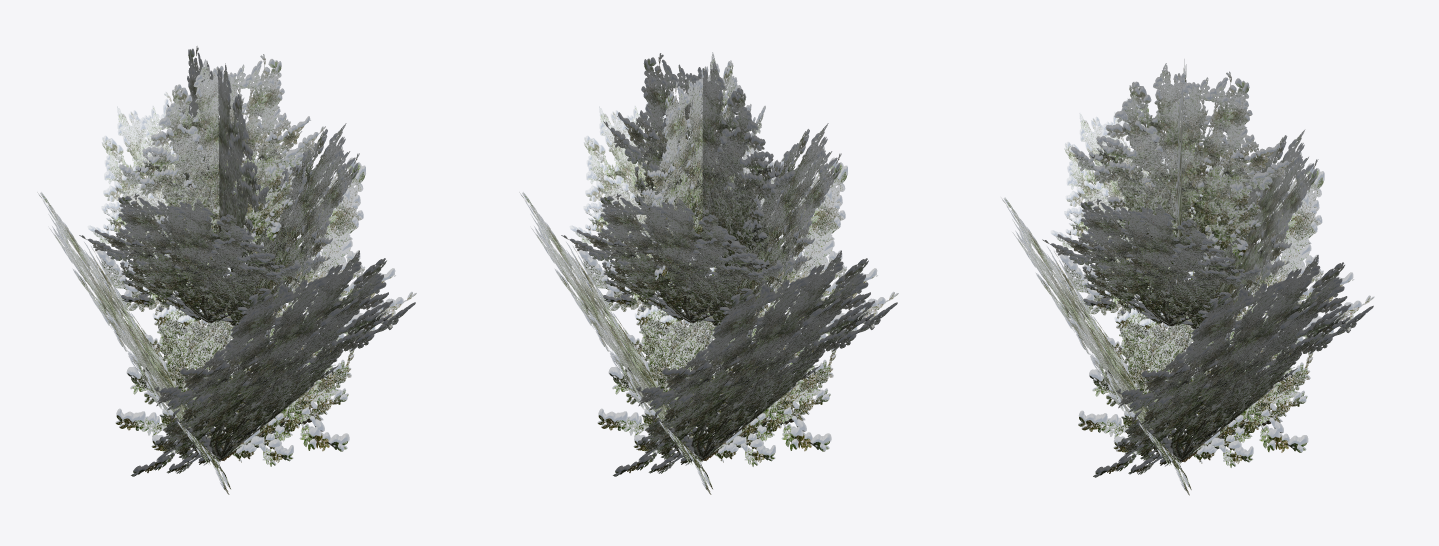
The model's file is Bush_2.fbx.
The picture shows the model from 3 angles, left to right: view 1: azimuth 30°, elevation 25°; view 2: azimuth 150°, elevation 25°; view 3: azimuth 270°, elevation 25°; orthographic projection.
Visible parts, largest first — view 1: Bush2; view 2: Bush2; view 3: Bush2.
Part boxes in pixels (left/top/right/bottom): Bush2: left=37, top=46, right=416, bottom=494; Bush2: left=519, top=52, right=898, bottom=494; Bush2: left=1001, top=59, right=1374, bottom=495.
Size of the model in its own units: 280 by 264 by 265.
Materials: 1 (1 with a texture image).
